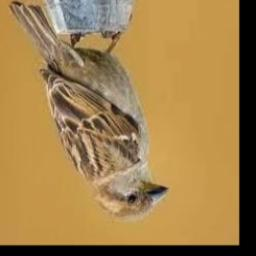Sparrow: (7, 3, 169, 221)
